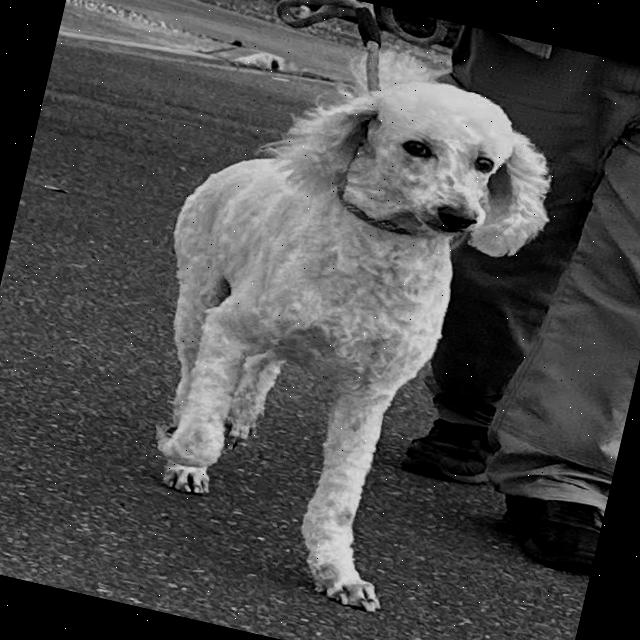Poodle_dog: (241, 38, 588, 301)
